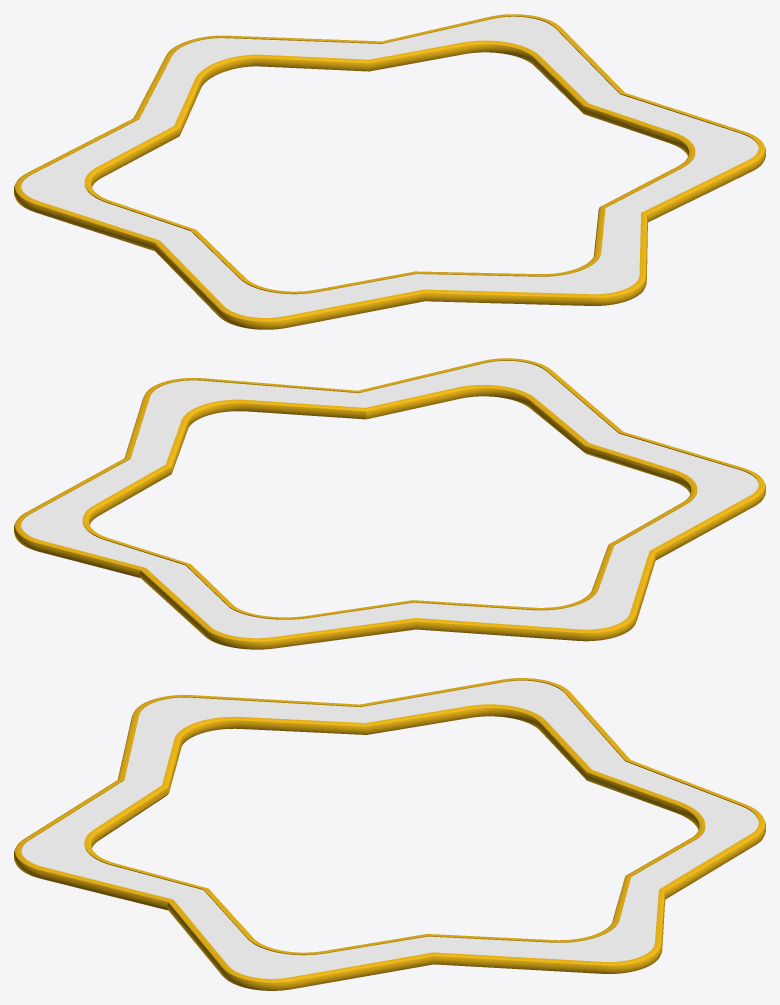
Rendered from StarMap.fbx.
3 renders of one model, top to bottom at view 1: azimuth 30°, elevation 25°; view 2: azimuth 150°, elevation 25°; view 3: azimuth 270°, elevation 25°, orthographic. The views are drawn at different scales.
Visible parts, largest first — view 1: Starplatform; view 2: Starplatform; view 3: Starplatform.
Boxes of the visible parts, x1,y1,x2,y2 form: Starplatform: (14,14,765,329); Starplatform: (14,358,765,649); Starplatform: (14,678,765,990).
Size of the model in its own units: 17822 by 277 by 18546.
